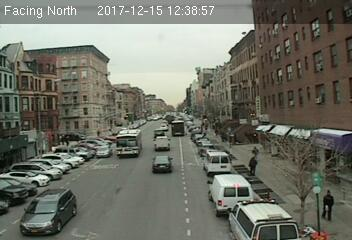bus: (116, 128, 142, 156)
car: (18, 185, 77, 236), (151, 155, 174, 174), (154, 136, 171, 151), (95, 144, 111, 157)
pedestrian: (321, 188, 335, 223), (246, 154, 260, 177)
police: (229, 197, 301, 240)
truck: (207, 173, 252, 218), (203, 150, 232, 175)
ups: (170, 121, 185, 136)
